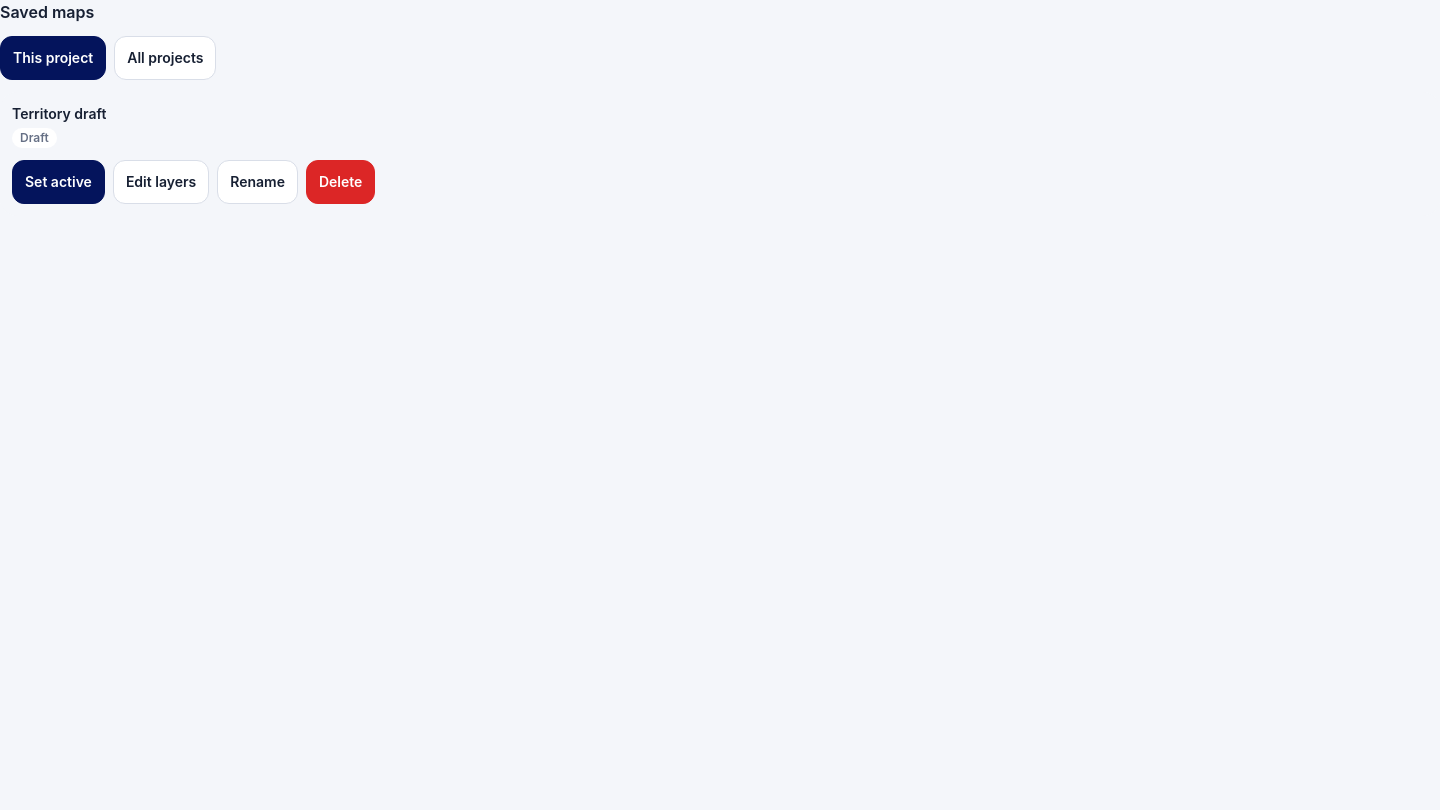
SavedMapsList › clears a stale active-map error when opening the rename dialog
Click the button "Set active": point(58, 182) [12,160,105,204]
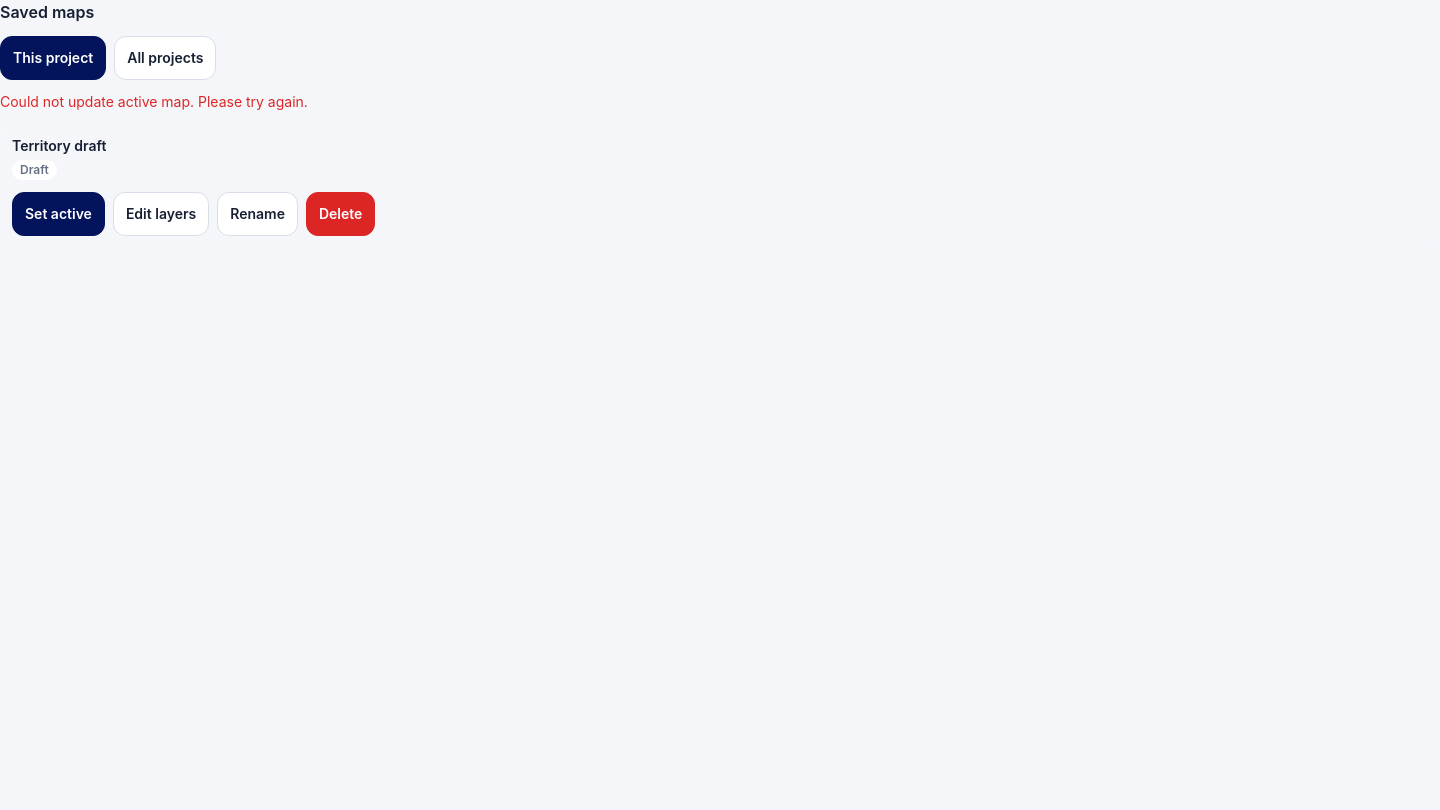
Expected: the message reads "Could not update active map. Please try again.", [0,93,308,110]
Click the button "Rename": point(258, 214) [217,192,298,236]
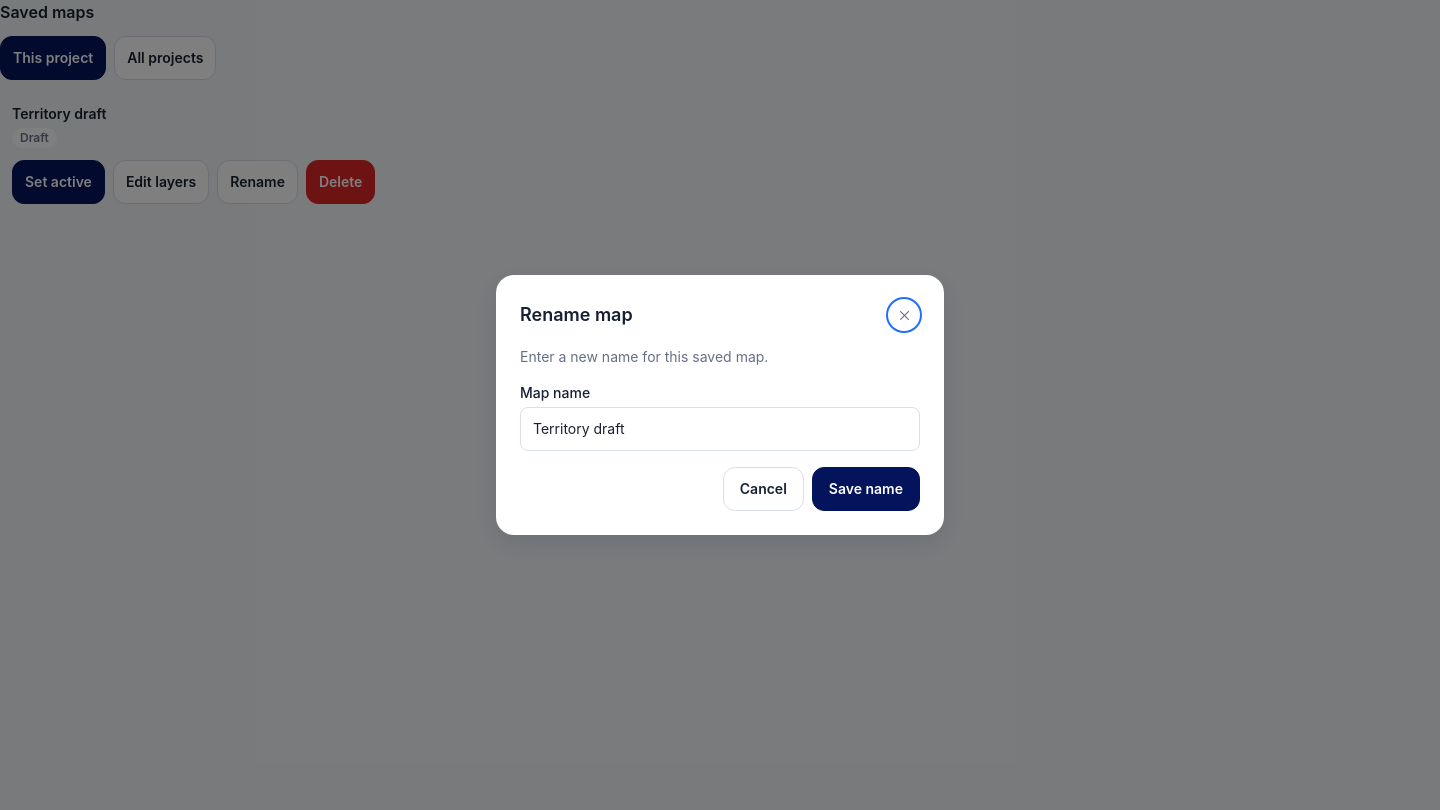
Expected: the dialog "Rename map" is shown, [496,275,944,535]
Expected: the text "Could not update active map. Please try again." is gone
